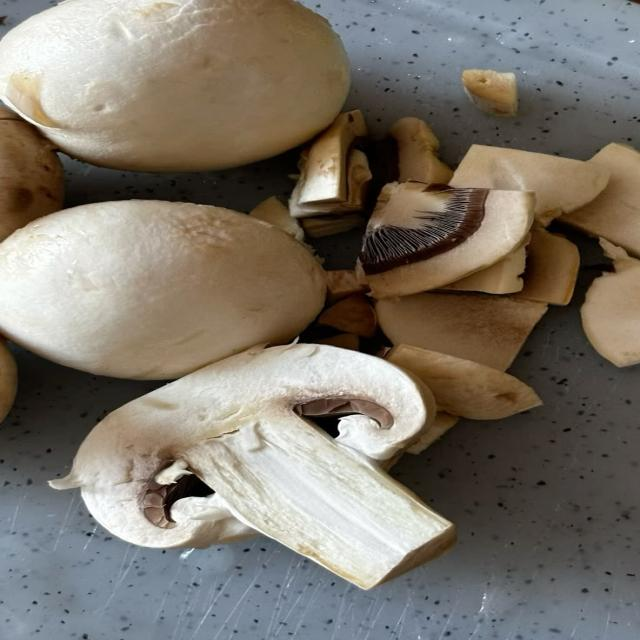champignon mushrooms: (52, 345, 454, 588), (0, 0, 349, 171), (0, 201, 325, 378), (360, 183, 534, 297), (376, 293, 546, 370), (450, 145, 609, 225), (385, 344, 541, 419), (561, 143, 639, 256), (0, 107, 63, 241), (290, 110, 367, 217), (581, 239, 639, 366), (289, 149, 372, 224), (442, 235, 530, 294), (517, 229, 579, 305), (389, 117, 453, 183), (462, 69, 518, 116), (318, 294, 377, 337), (250, 197, 304, 242), (407, 412, 459, 454), (300, 212, 366, 238), (0, 339, 17, 422), (327, 270, 368, 304)
